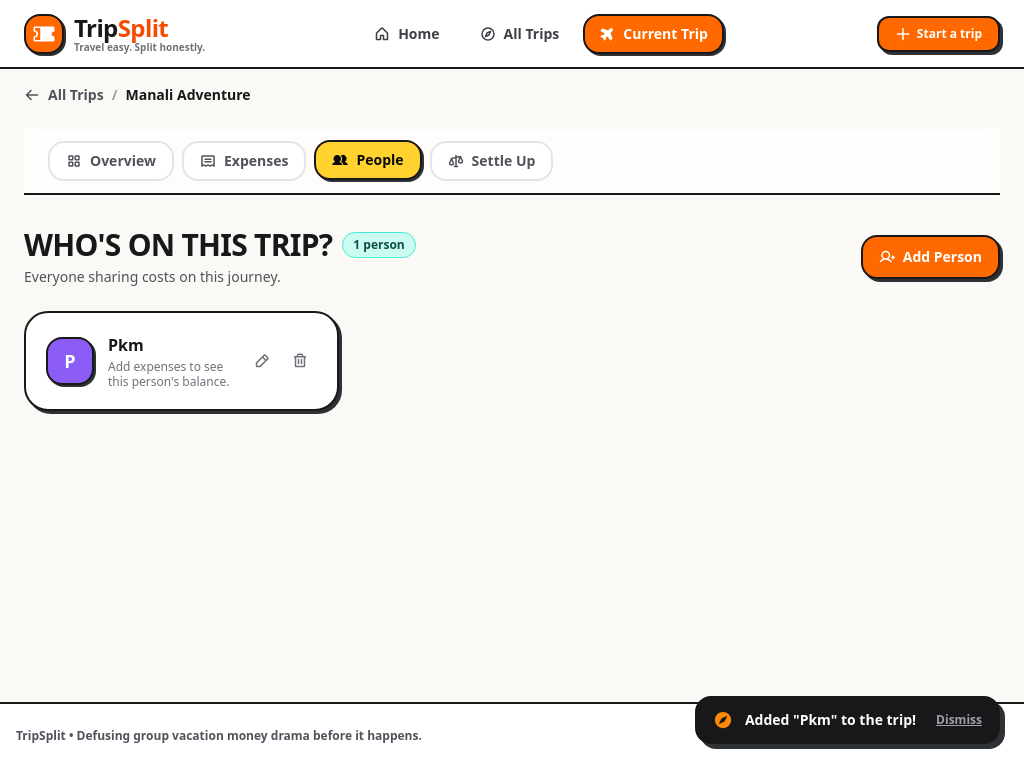
Test: People / Participant Management UI Flow › prevents duplicate names within the same trip
Expected: the heading "Pkm" is shown, top-left (108, 334), bottom-right (144, 356)
Note: Open add modal
Click the button "Add Person": [930, 257] box top-left (861, 235), bottom-right (1000, 279)
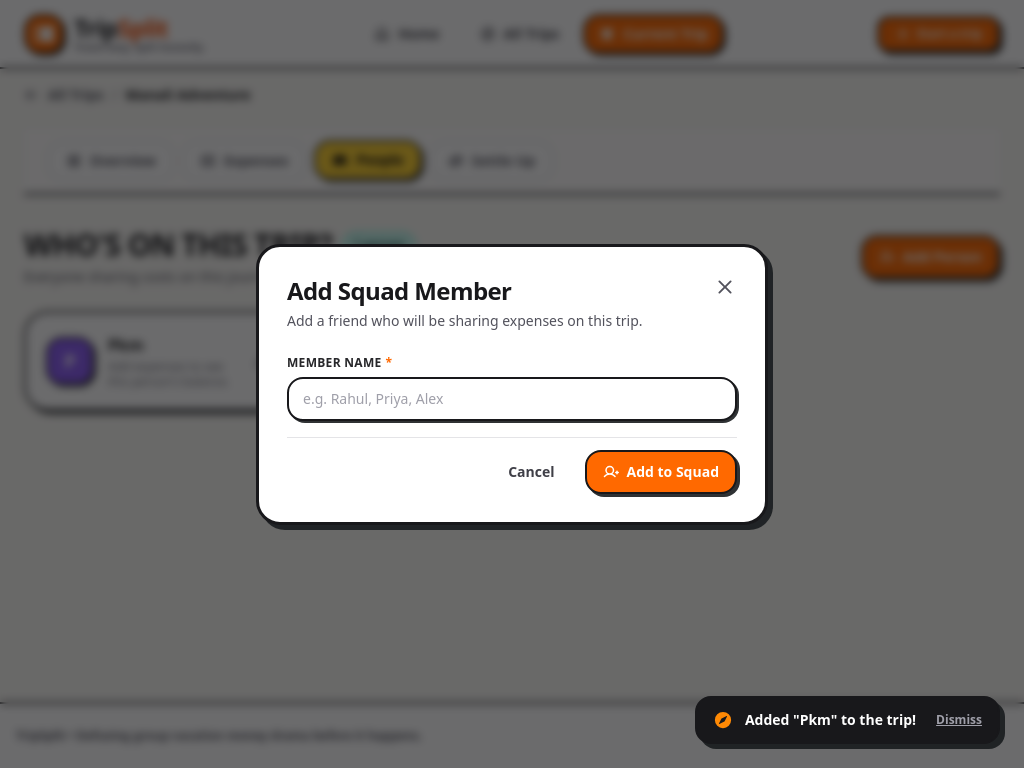
Note: Try adding duplicate name with different casing
In the field labelled "Member Name *": [512, 398] box top-left (287, 376), bottom-right (737, 420), type "  pkm  "
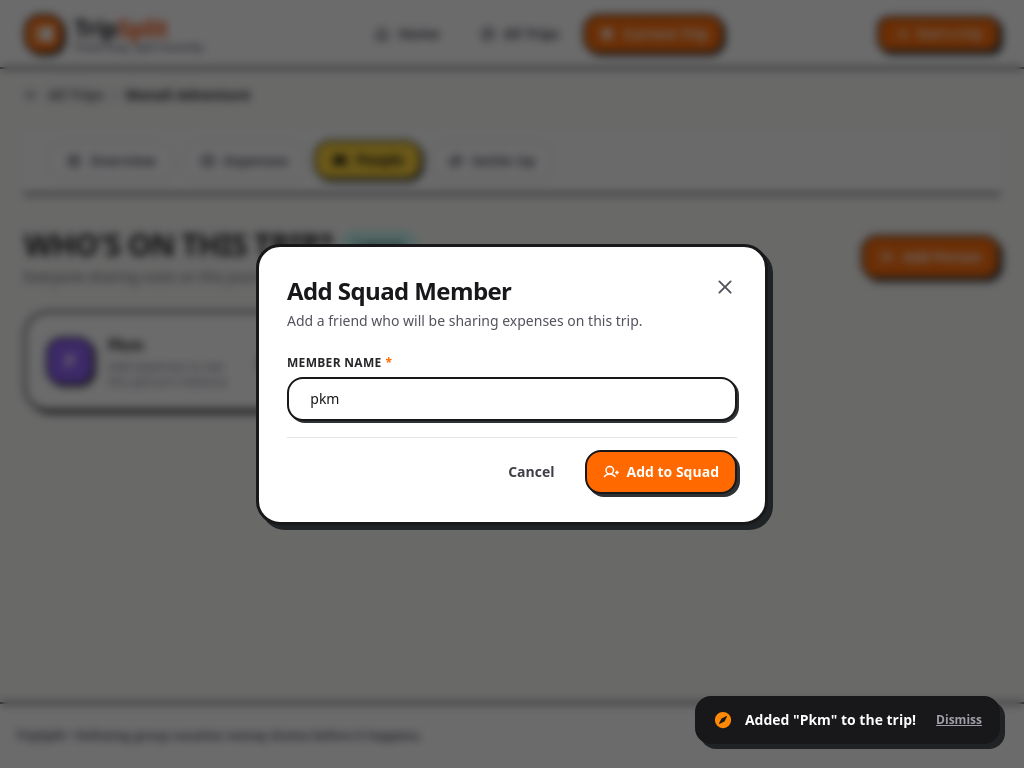
Click the button "Add to Squad": [661, 472] box top-left (584, 450), bottom-right (737, 494)
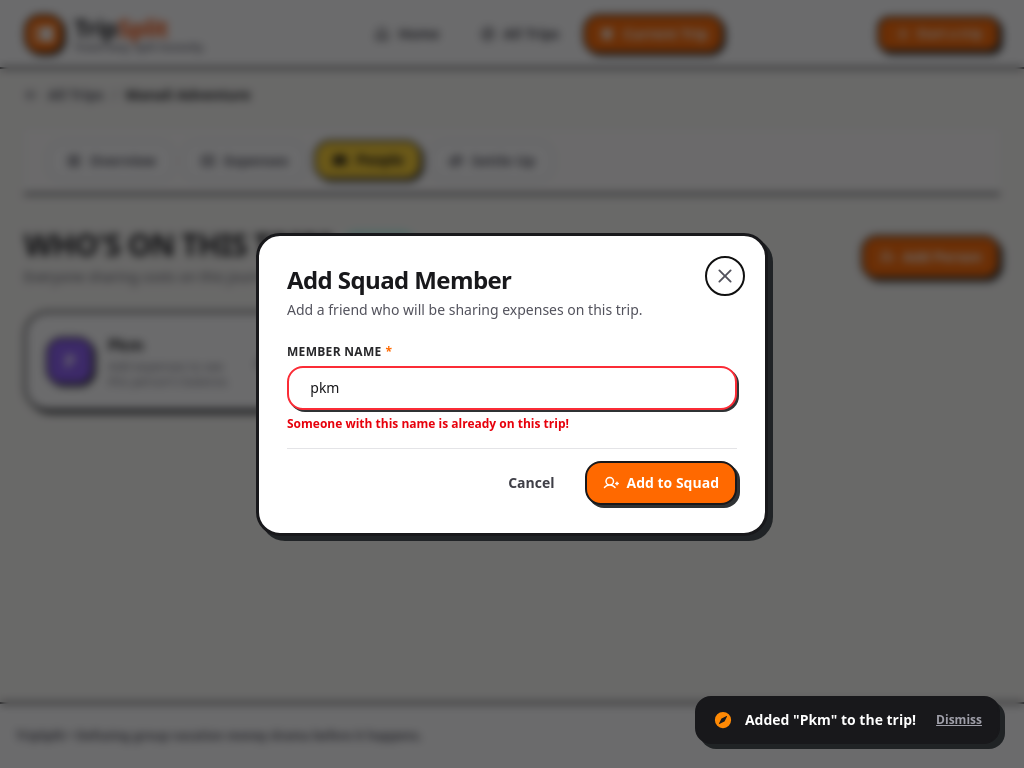
Expected: the text "Someone with this name is already on this trip!" is shown, top-left (287, 414), bottom-right (569, 432)
